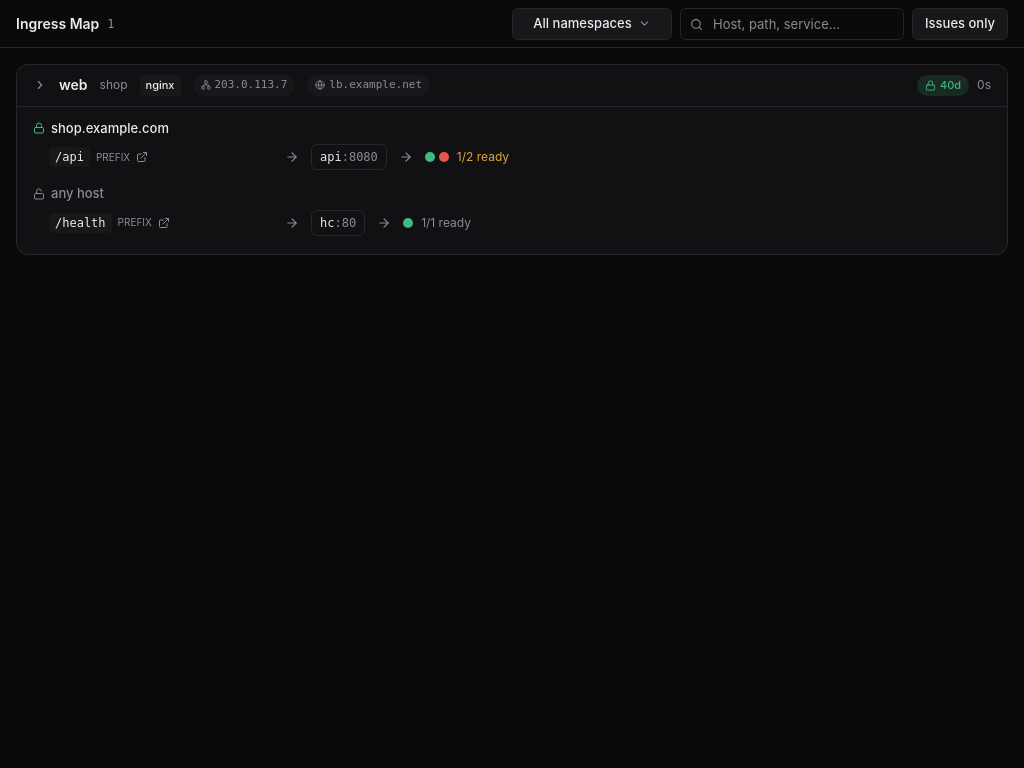
Test case: Ingress details › is closed until the record is clicked, then lists addresses, URLs, service and pod IPs and TLS
Expected: the text "Addresses" is not shown
Click the button with aria-label "Show details of web".
click(160, 85)  # box [17,65,1007,106]
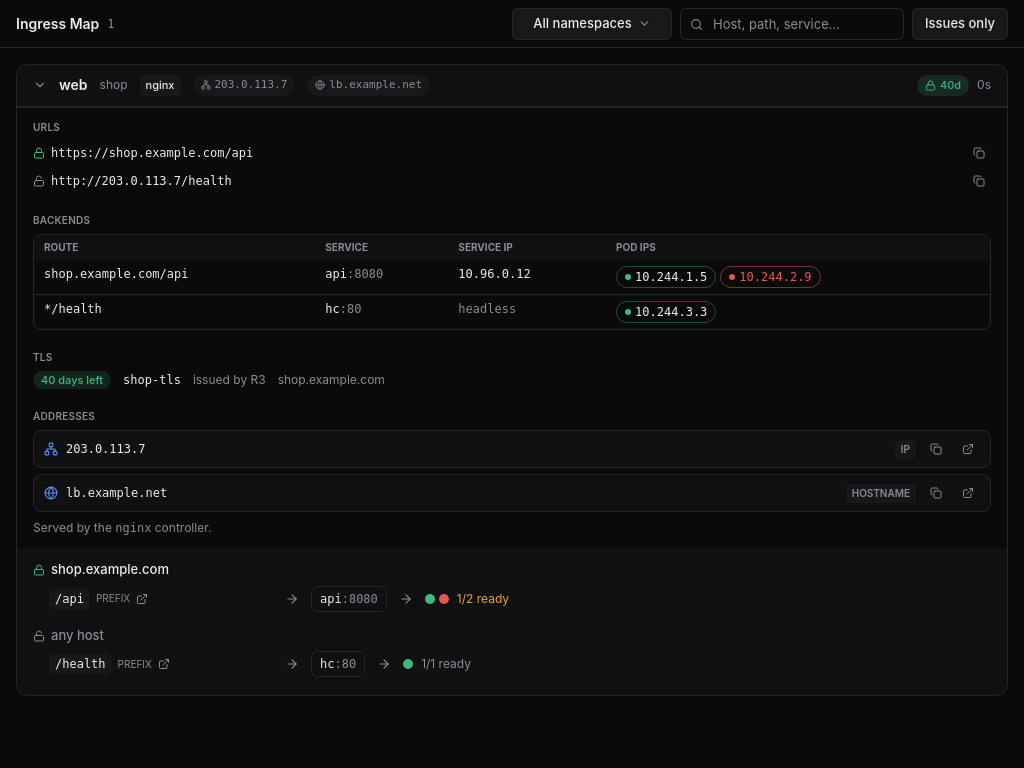
Now the heading "Addresses" is shown, box [33,410,95,422]
Now the text "IP" is shown, box [895,440,916,459]
Now the text "Hostname" is shown, box [846,484,916,503]
Click the button named "Show details of web".
click(160, 85)  # box [17,65,1007,106]
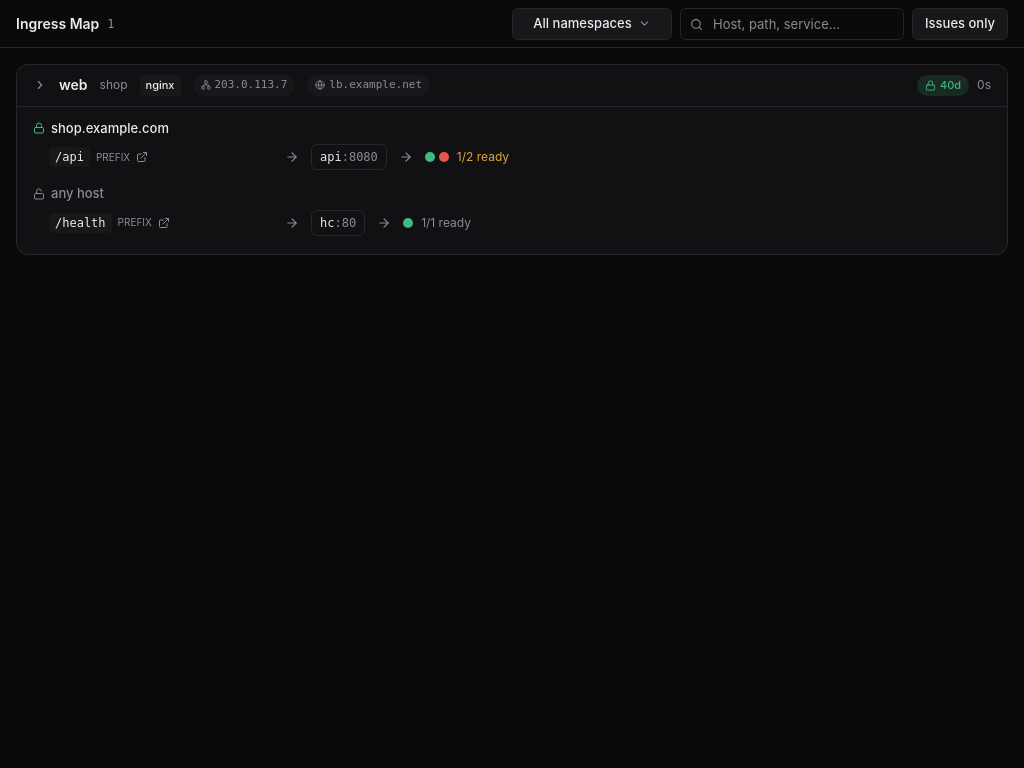
Now the heading "Addresses" is gone
